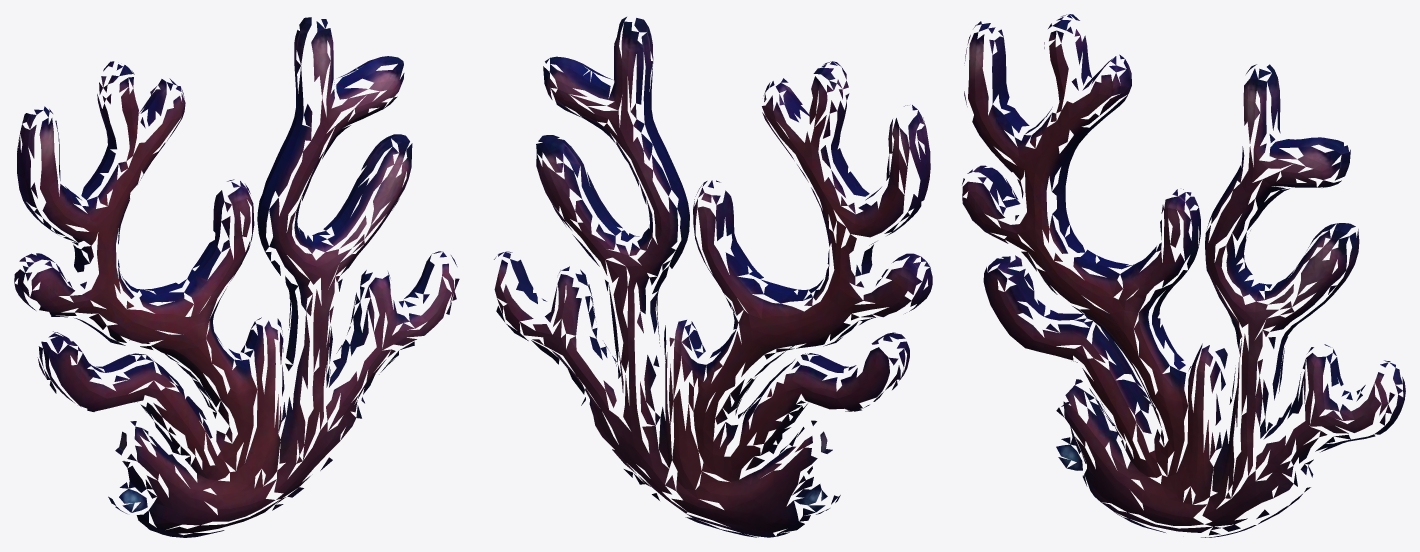
Rendered from coral.glb.
3 views of the same model, side by side, from view 1: azimuth 30°, elevation 25°; view 2: azimuth 150°, elevation 25°; view 3: azimuth 330°, elevation 25° (orthographic).
Visible parts, largest first — view 1: world.001; view 2: world.001; view 3: world.001.
Boxes of the visible parts, box(x1,y1,x2,y2) form: world.001: box(14, 17, 459, 537); world.001: box(494, 17, 932, 537); world.001: box(962, 14, 1405, 537).
Size of the model in its own units: 0.9316 by 0.9991 by 0.0784.
1 material, 1 textured.
